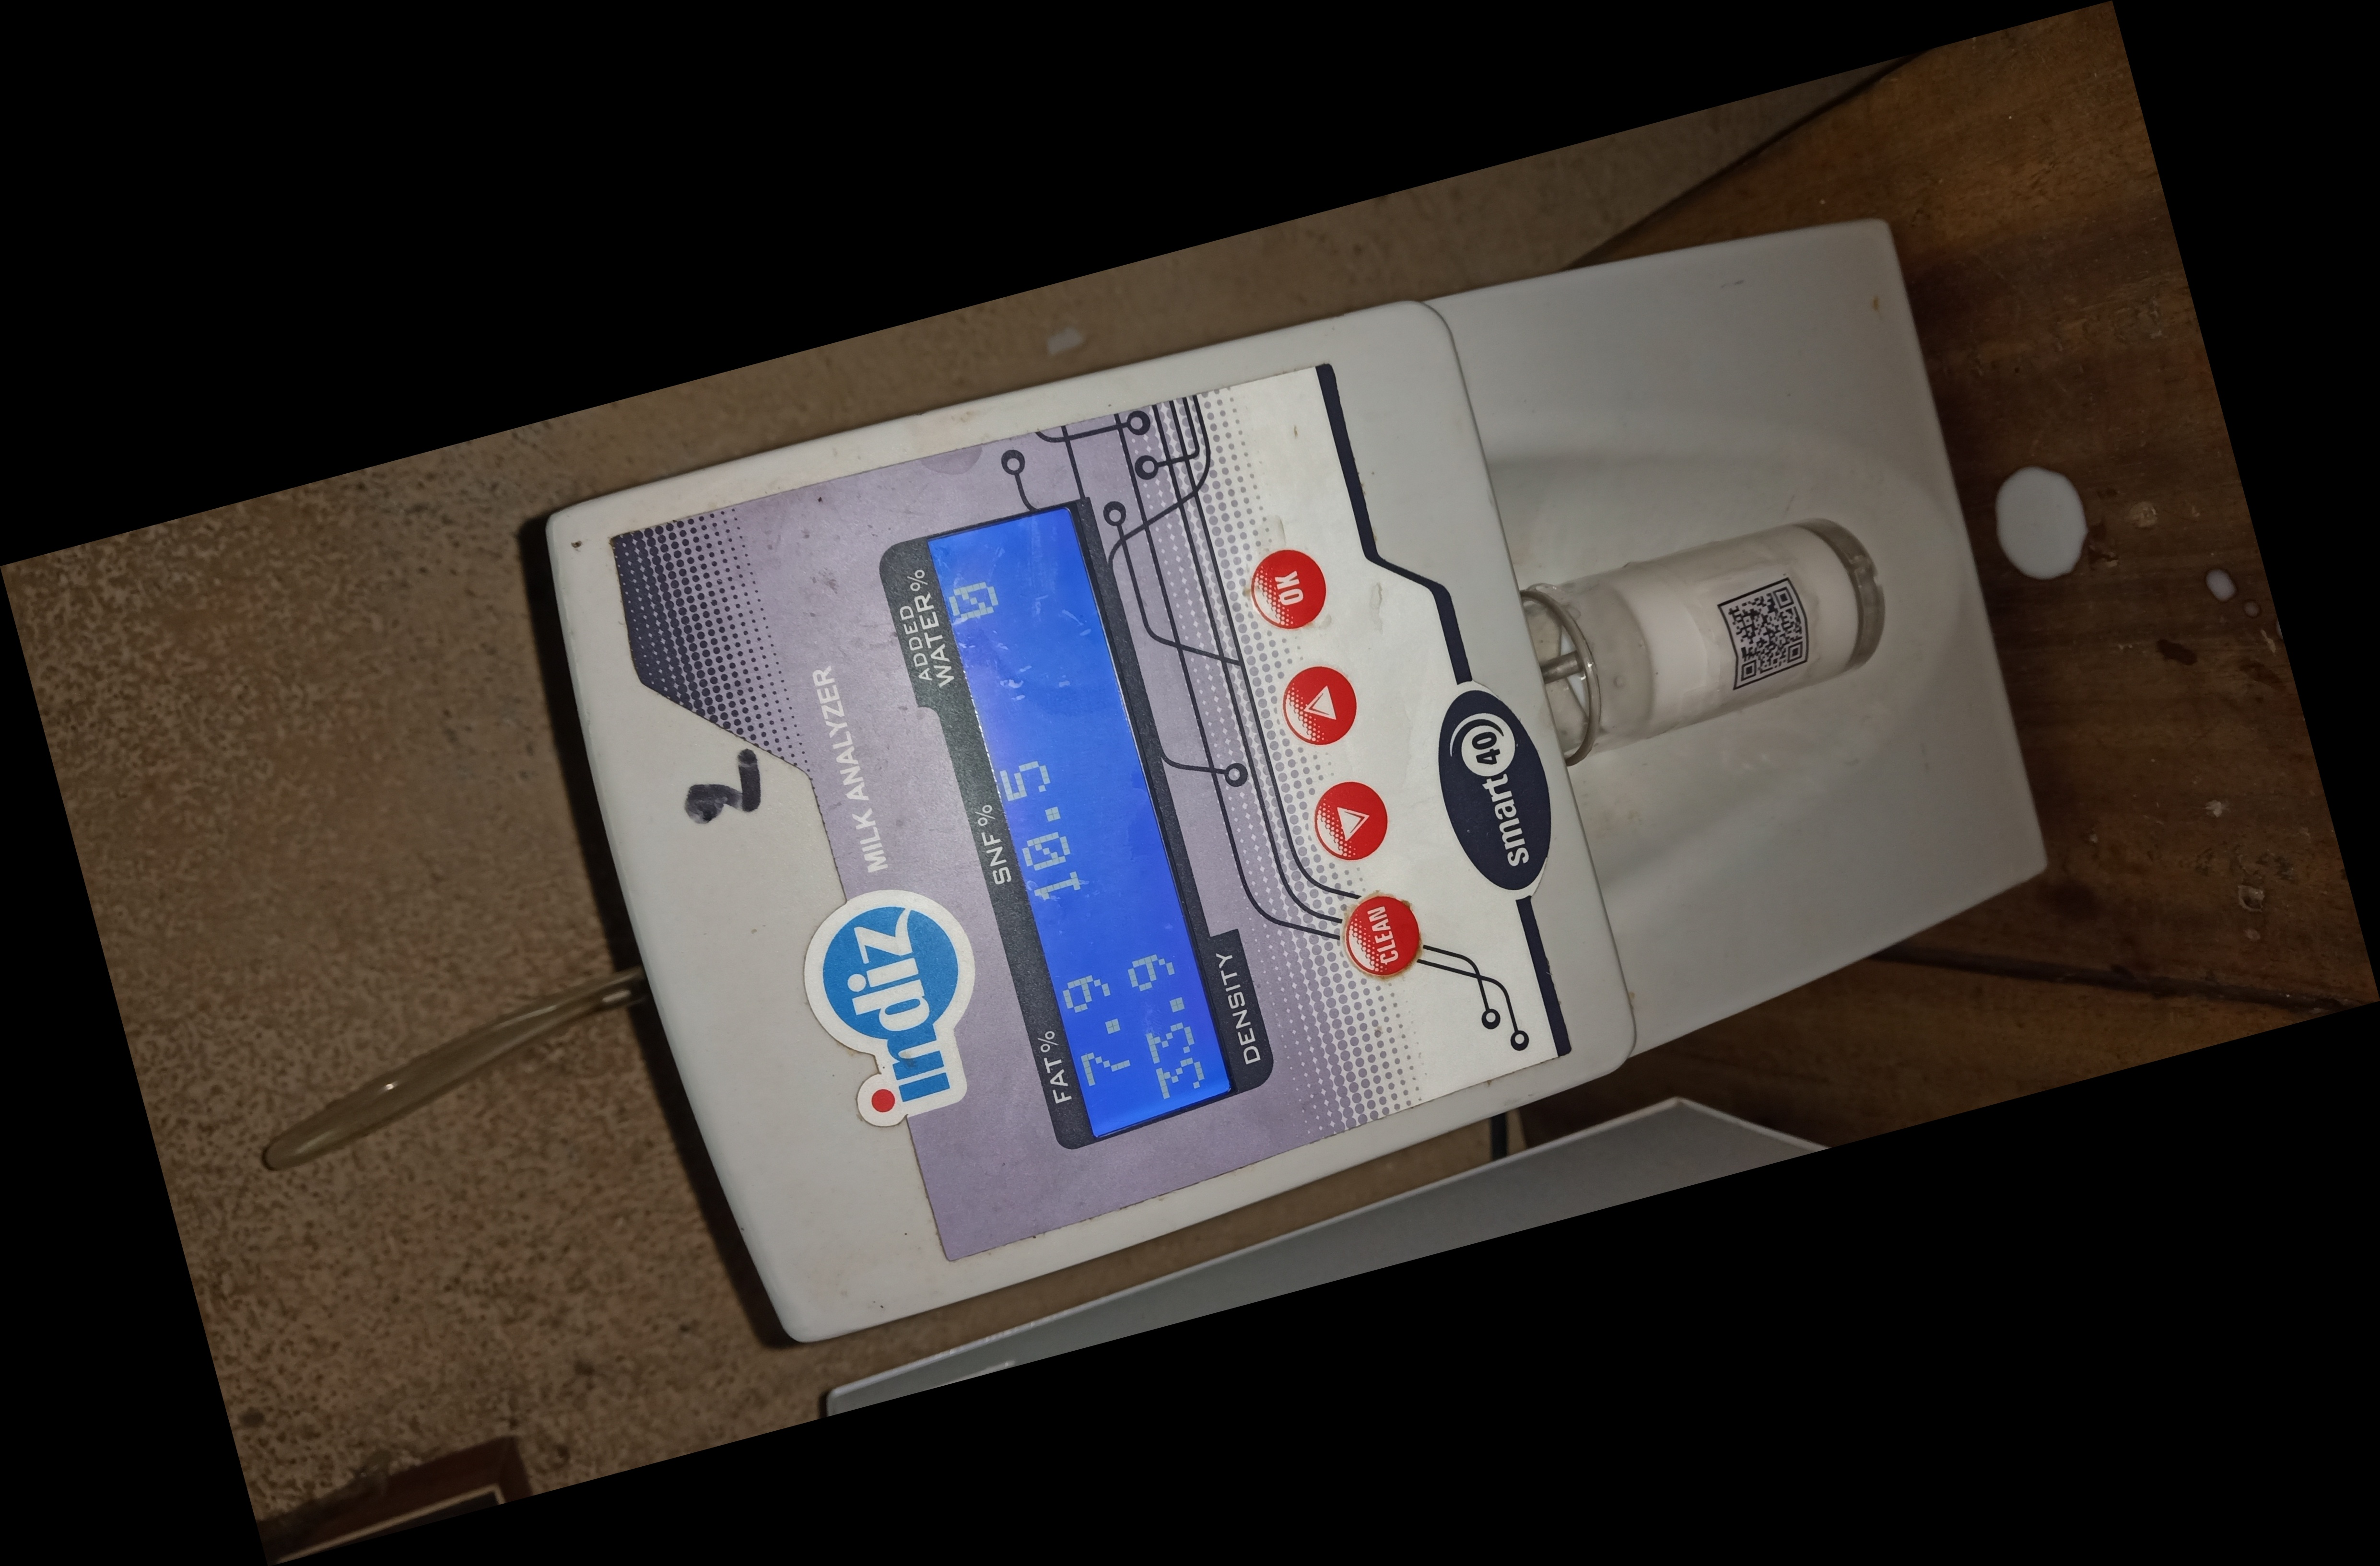lcd: (877, 498, 1290, 1150)
qr: (1709, 563, 1824, 687)
